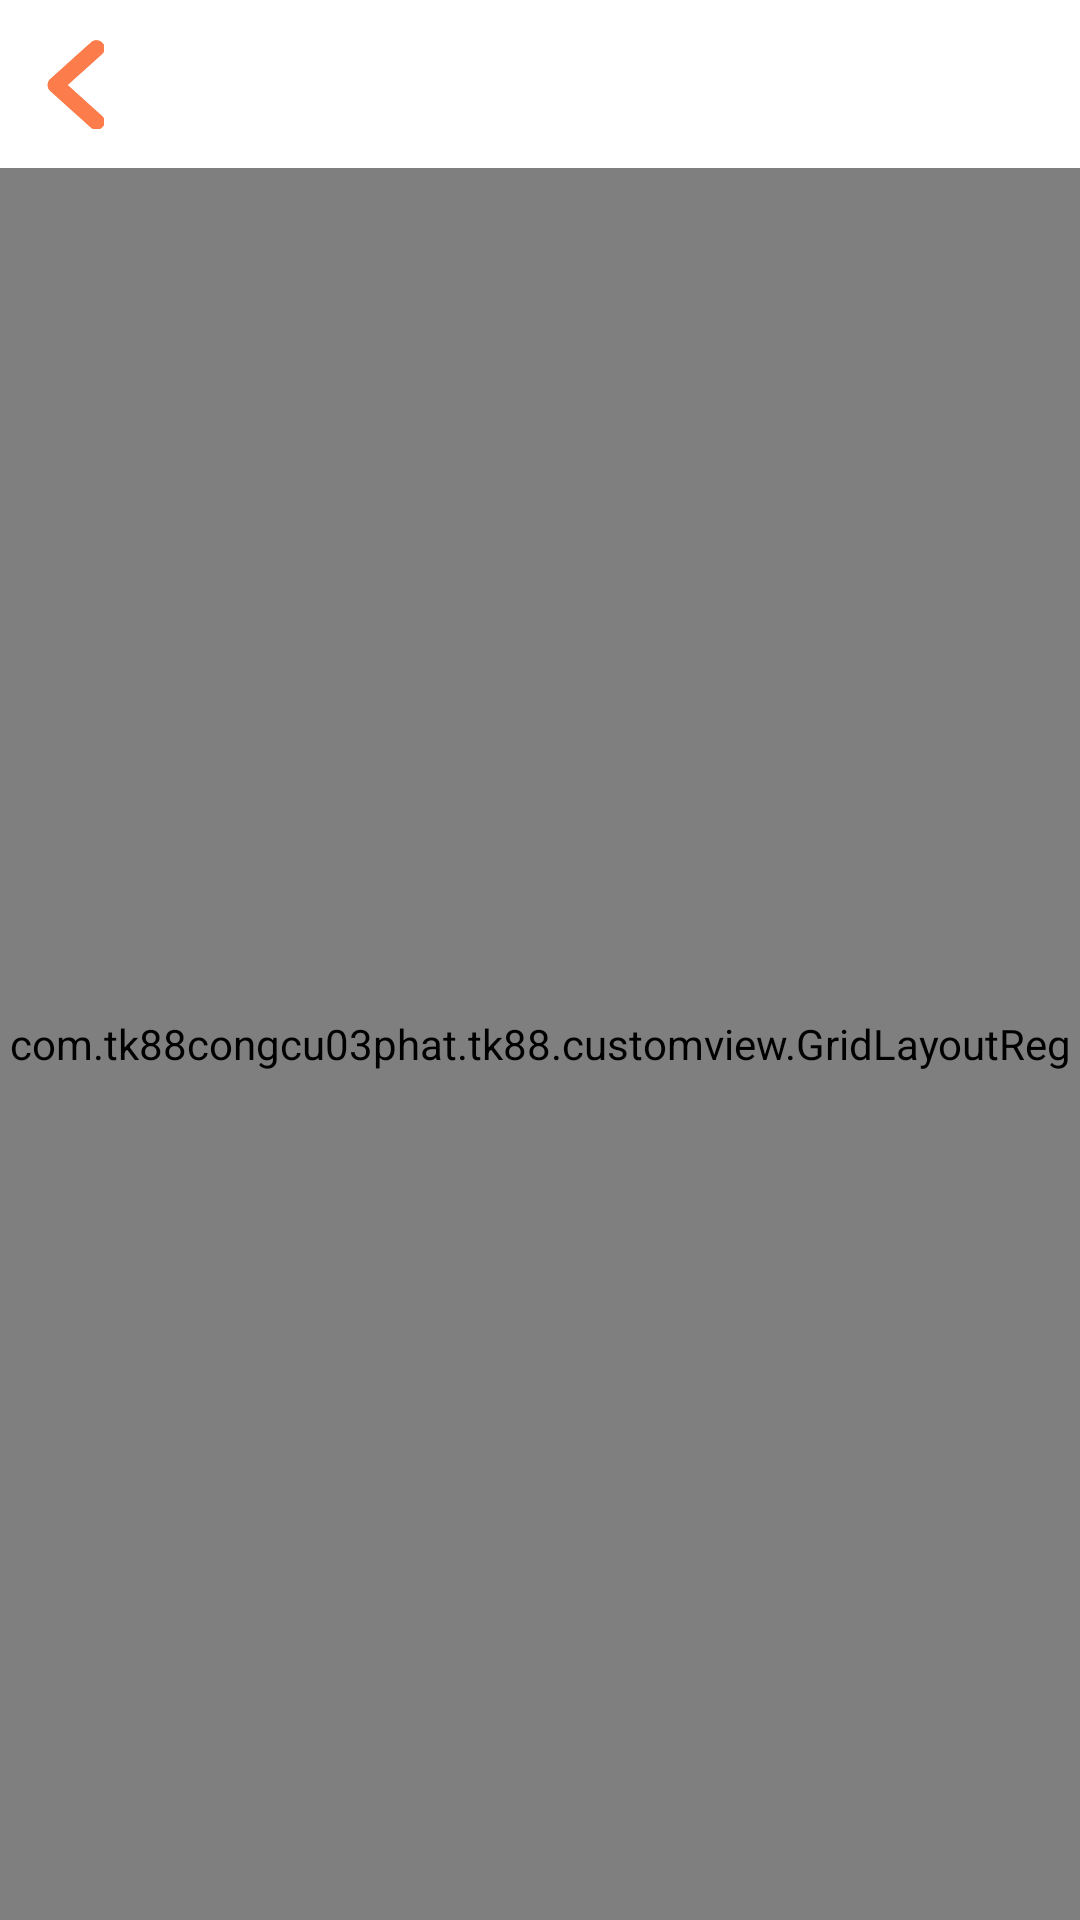

Screen size 1080×1920. Icon name, then its center in pixels as [x,y]:
back: [75,84]
